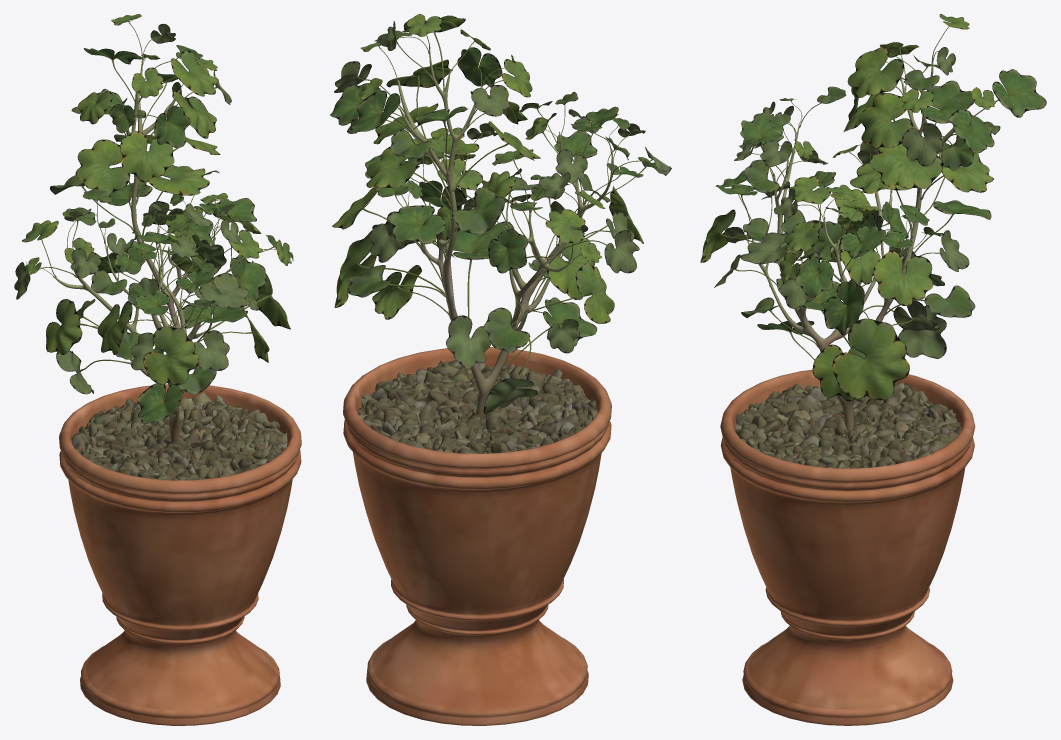
The model's file is potted_plant_01.glb.
3 renders of one model, left to right at view 1: azimuth 30°, elevation 25°; view 2: azimuth 150°, elevation 25°; view 3: azimuth 270°, elevation 25°, orthographic. The views are drawn at different scales.
Parts seen in each view (by area): view 1: potted_plant_01_pot, potted_plant_01_leaves, potted_plant_01_pebbles, potted_plant_01_stem; view 2: potted_plant_01_pot, potted_plant_01_leaves, potted_plant_01_pebbles, potted_plant_01_stem; view 3: potted_plant_01_pot, potted_plant_01_leaves, potted_plant_01_pebbles, potted_plant_01_stem.
Boxes of the visible parts, bbox=[...] form: potted_plant_01_pot: bbox=[59, 384, 301, 725]; potted_plant_01_leaves: bbox=[14, 14, 293, 423]; potted_plant_01_pebbles: bbox=[71, 392, 287, 480]; potted_plant_01_stem: bbox=[53, 54, 244, 443]; potted_plant_01_pot: bbox=[343, 347, 611, 725]; potted_plant_01_leaves: bbox=[330, 14, 671, 414]; potted_plant_01_pebbles: bbox=[358, 360, 597, 453]; potted_plant_01_stem: bbox=[397, 49, 612, 420]; potted_plant_01_pot: bbox=[720, 369, 975, 725]; potted_plant_01_leaves: bbox=[700, 14, 1046, 401]; potted_plant_01_pebbles: bbox=[735, 382, 961, 468]; potted_plant_01_stem: bbox=[751, 55, 966, 431].
Size of the model in its own units: 0.5874 by 1.34 by 0.6336.
Materials: 2 (2 with a texture image).
